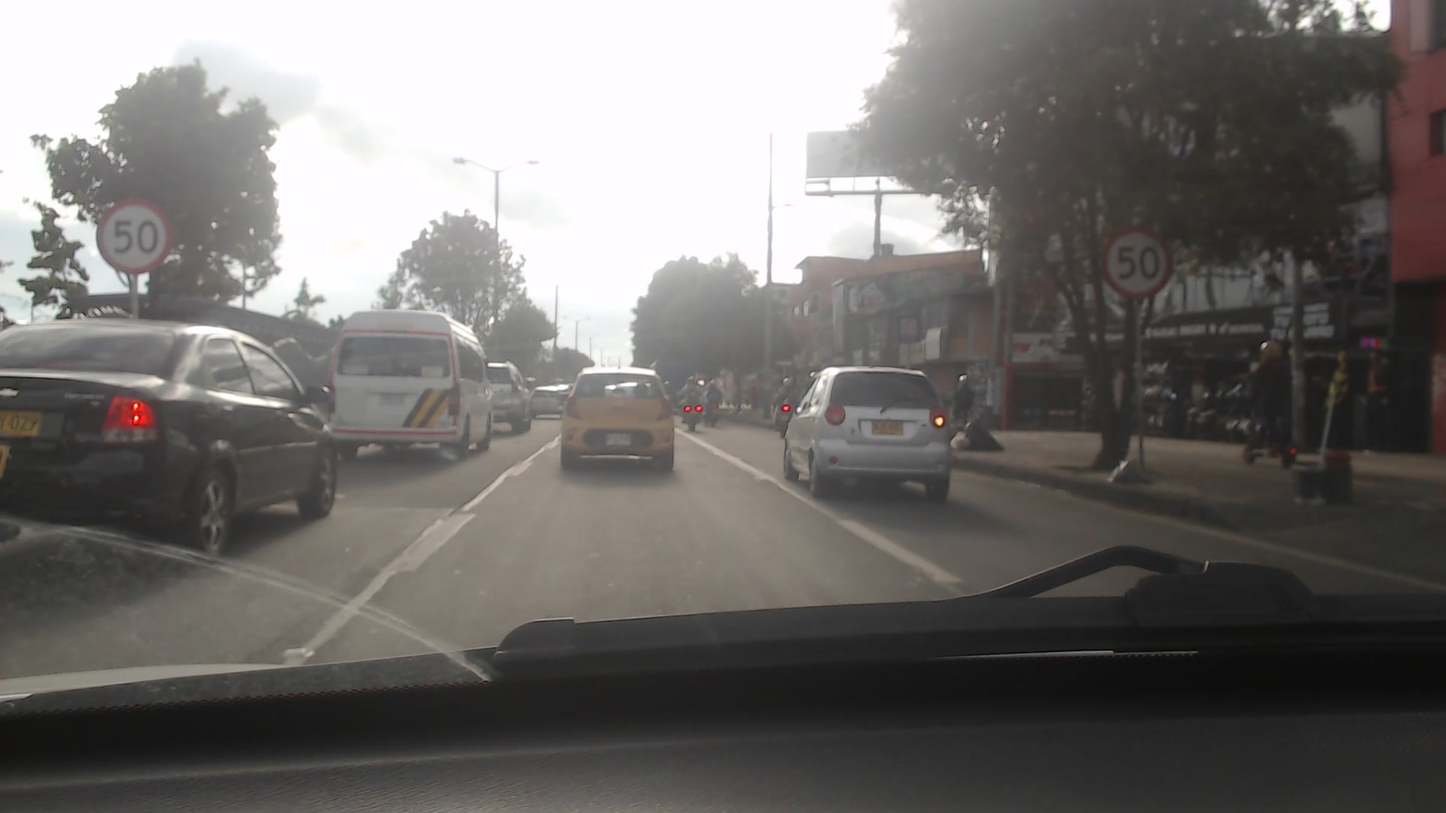bus: (329, 306, 495, 451)
car: (0, 317, 341, 558), (768, 361, 958, 502), (558, 363, 679, 474), (479, 364, 536, 436), (528, 384, 560, 421)
motorcycle: (770, 404, 795, 436), (676, 403, 704, 430), (703, 402, 723, 427)
person: (680, 375, 703, 413), (775, 376, 796, 410), (703, 380, 724, 403)
